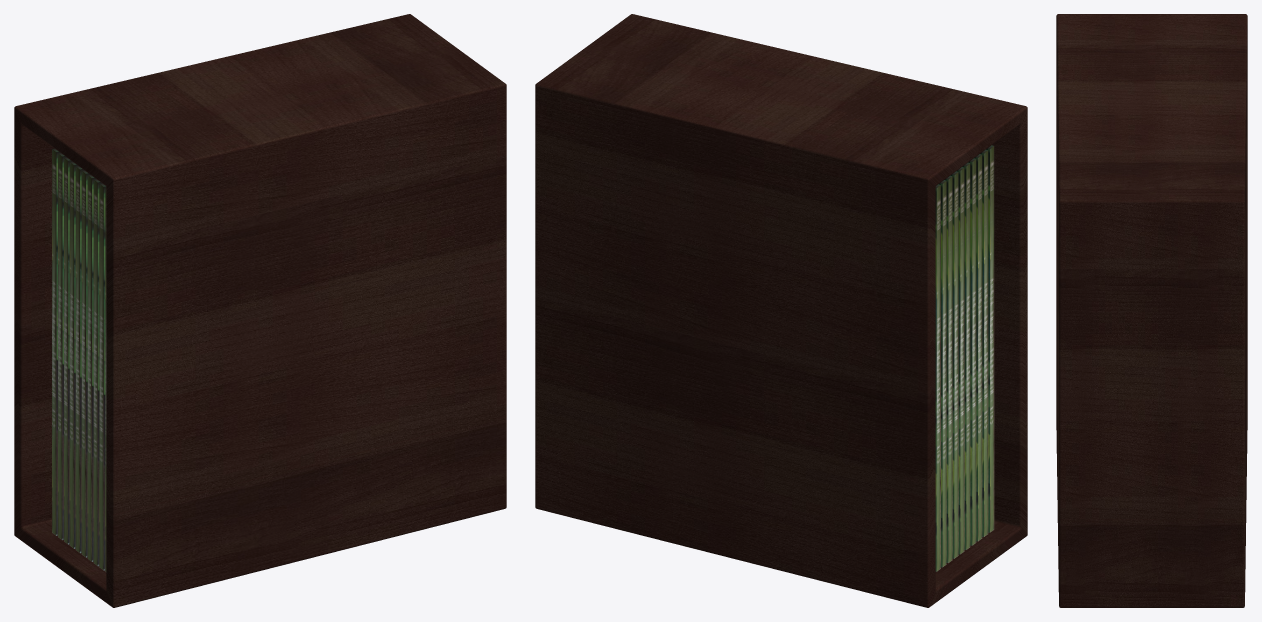
File: records.glb
3 renders of one model, left to right at view 1: azimuth 30°, elevation 25°; view 2: azimuth 150°, elevation 25°; view 3: azimuth 270°, elevation 25°, orthographic. The views are drawn at different scales.
Parts seen in each view (by area): view 1: Shelf, FetchTheBoltCutters, IKnowImFunnyHaHa, DontSmileAtMe, BitchesBrew, MinecraftVolumeAlpha, InAnAiroplaneOverTheSea, BcosUWillNeverBFree, ApricotPrincess, AwakenMyLove, NehruvianDOOM; view 2: Shelf, InAnAiroplaneOverTheSea, WhenWeAllFallAsleepWhereDoWeGo, NehruvianDOOM, MinecraftVolumeAlpha, FetchTheBoltCutters, DontSmileAtMe, IKnowImFunnyHaHa, BitchesBrew, BcosUWillNeverBFree, AwakenMyLove; view 3: Shelf.
Boxes of the visible parts, left/top/right/bottom form: Shelf: left=14, top=14, right=506, bottom=607; FetchTheBoltCutters: left=81, top=170, right=89, bottom=557; IKnowImFunnyHaHa: left=87, top=174, right=95, bottom=561; DontSmileAtMe: left=75, top=166, right=83, bottom=553; BitchesBrew: left=69, top=161, right=77, bottom=548; MinecraftVolumeAlpha: left=99, top=183, right=106, bottom=570; InAnAiroplaneOverTheSea: left=93, top=179, right=101, bottom=566; BcosUWillNeverBFree: left=64, top=157, right=71, bottom=544; ApricotPrincess: left=52, top=148, right=59, bottom=535; AwakenMyLove: left=58, top=153, right=65, bottom=540; NehruvianDOOM: left=105, top=188, right=106, bottom=572; Shelf: left=535, top=14, right=1027, bottom=607; InAnAiroplaneOverTheSea: left=968, top=158, right=976, bottom=545; WhenWeAllFallAsleepWhereDoWeGo: left=986, top=145, right=994, bottom=532; NehruvianDOOM: left=980, top=149, right=988, bottom=536; MinecraftVolumeAlpha: left=974, top=154, right=982, bottom=541; FetchTheBoltCutters: left=956, top=167, right=964, bottom=554; DontSmileAtMe: left=950, top=171, right=958, bottom=558; IKnowImFunnyHaHa: left=962, top=162, right=970, bottom=549; BitchesBrew: left=945, top=175, right=952, bottom=563; BcosUWillNeverBFree: left=938, top=180, right=946, bottom=567; AwakenMyLove: left=935, top=184, right=940, bottom=571; Shelf: left=1056, top=14, right=1247, bottom=607.
Size of the model in its own units: 2.16 by 2.24 by 0.9413.
Materials: 2 (2 with a texture image).
